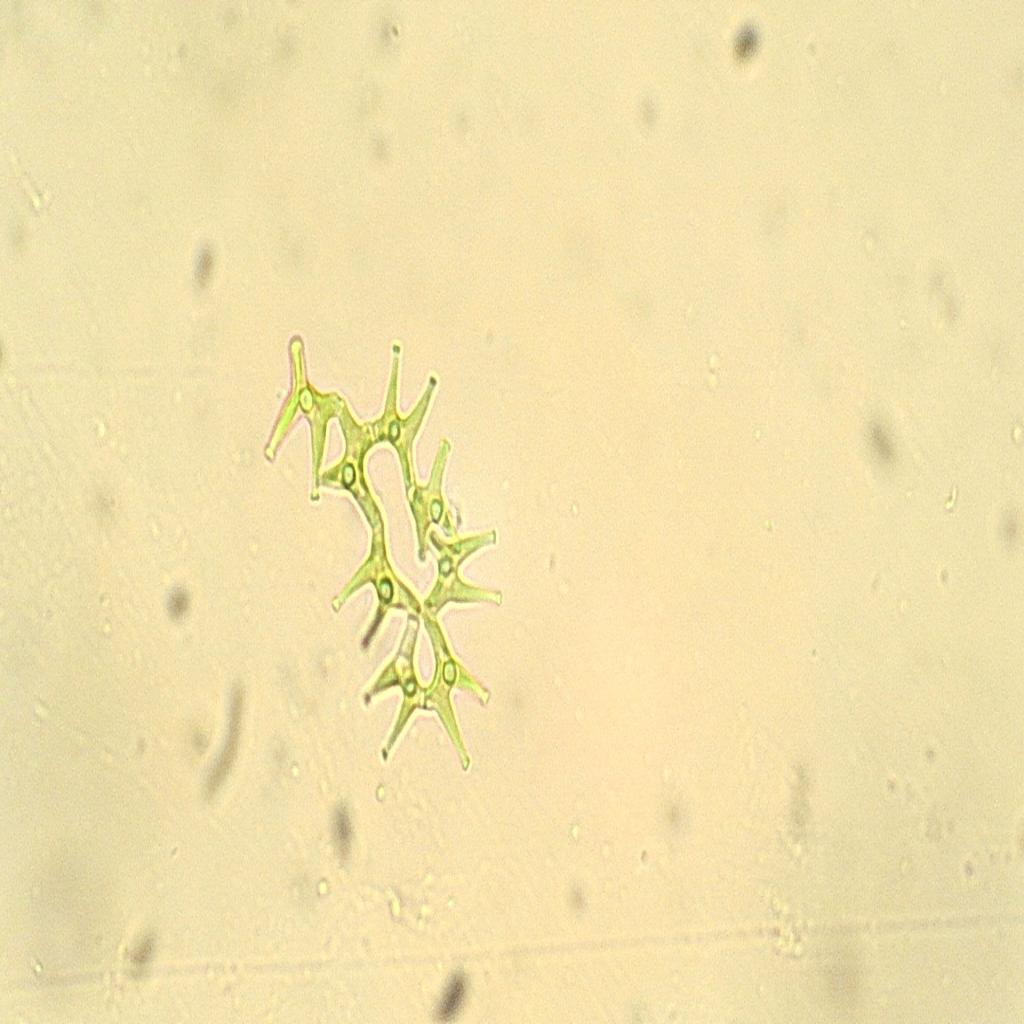Pediastrum_1TH: (250, 279, 514, 796)
